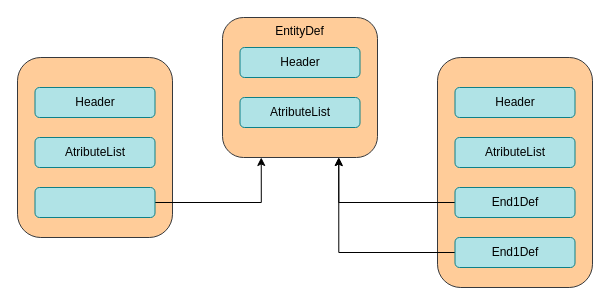
This 610x305 diagram has some shape labels left out. Here are the shapes that lost their labels. From the top down, the box of each, then its label:
(16, 56, 172, 238): ClassificationDef
(436, 56, 592, 288): RelationshipDef
(34, 186, 155, 218): EntityList
